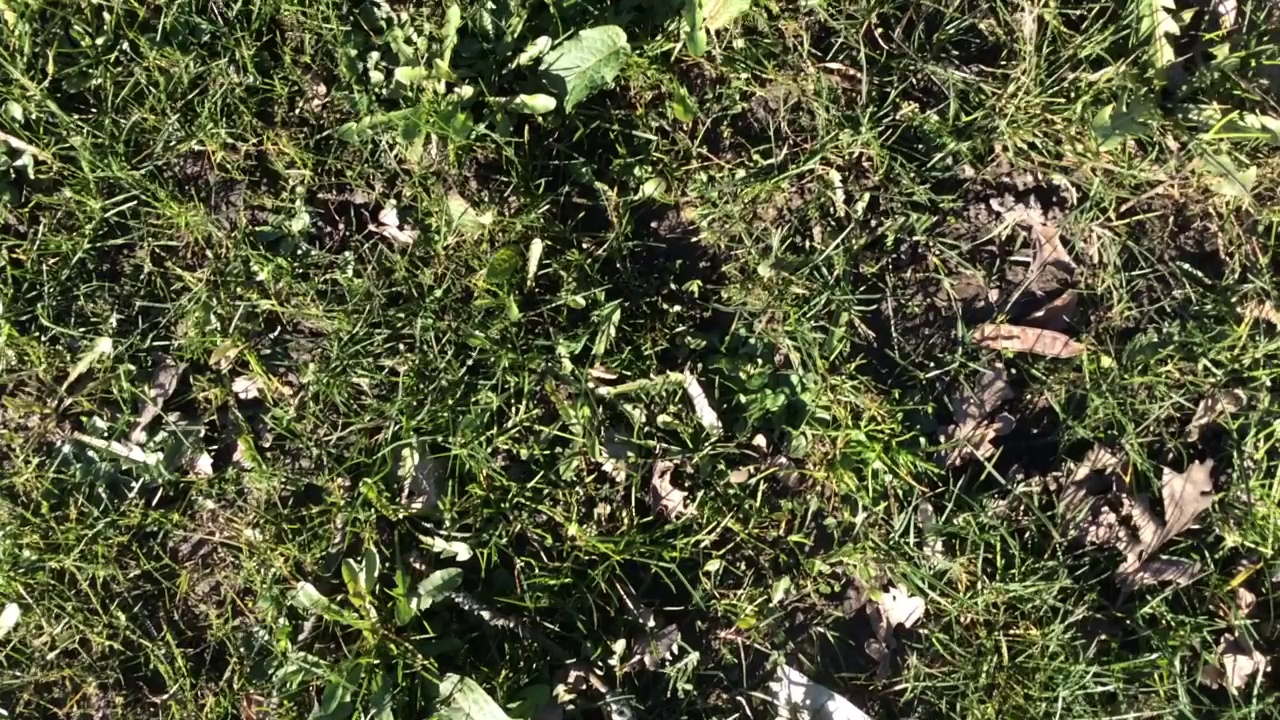rumex: (524, 25, 629, 105), (424, 670, 509, 720)
